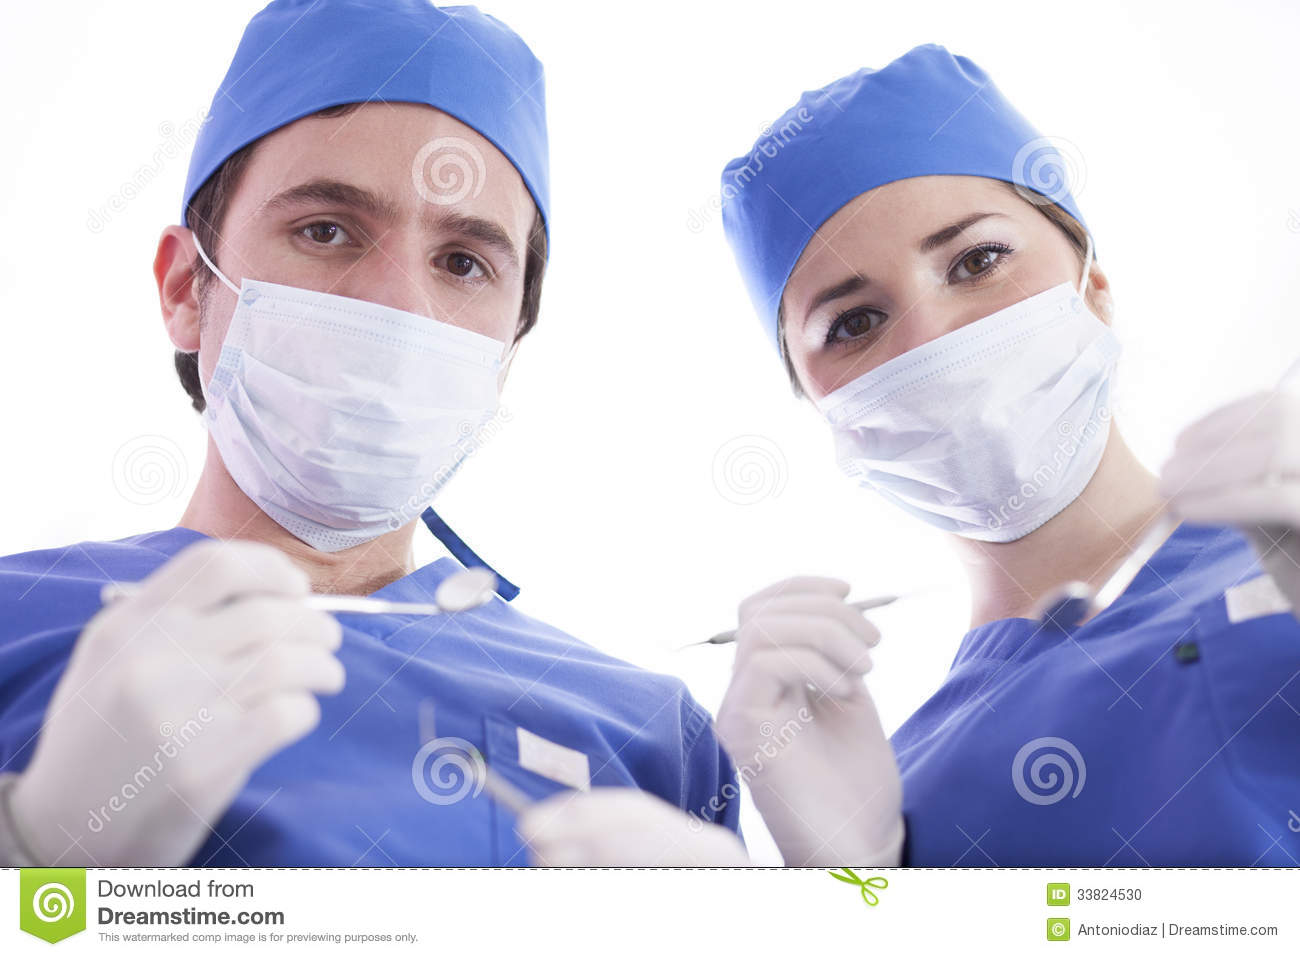mask: (203, 302, 536, 530), (820, 294, 1116, 518)
